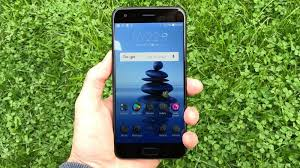asus: (109, 5, 187, 161)
